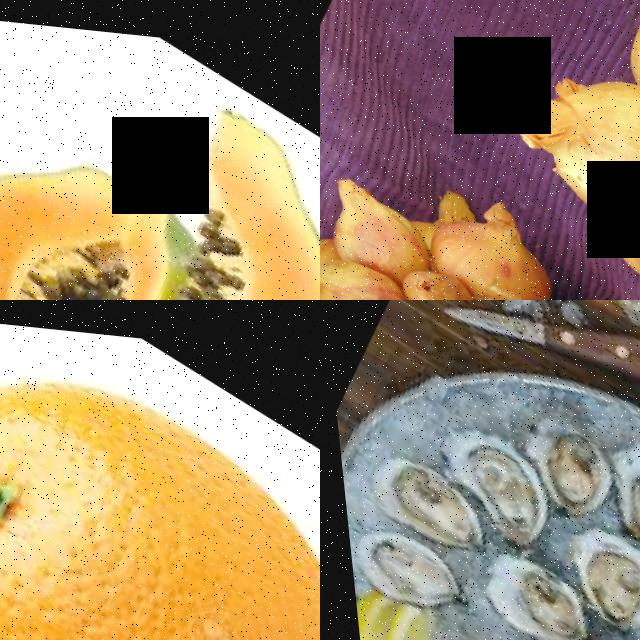lemon: (344, 577, 440, 640)
onion: (510, 33, 640, 266)
orange: (0, 300, 320, 640)
oysters: (412, 404, 564, 547), (348, 438, 496, 565), (345, 436, 489, 564), (339, 508, 473, 632), (503, 402, 627, 529), (455, 536, 591, 640), (536, 507, 640, 635), (590, 426, 640, 554)
pawpaw: (49, 81, 320, 300), (0, 75, 236, 300)
